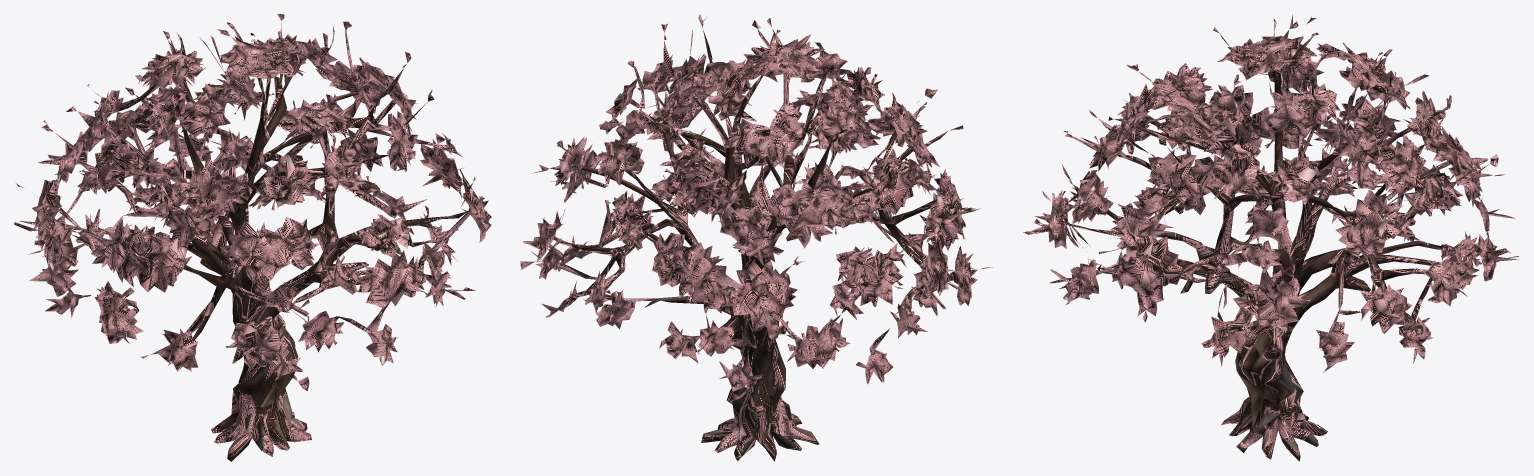
Rendered from peach-mid.glb.
3 views of the same model, side by side, from view 1: azimuth 30°, elevation 25°; view 2: azimuth 150°, elevation 25°; view 3: azimuth 270°, elevation 25° (orthographic).
Size of the model in its own units: 0.9765 by 0.9053 by 0.9982.
1 material, 1 textured.
